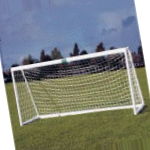goals: (8, 46, 147, 127)
